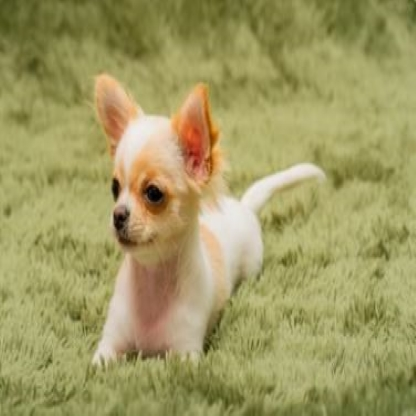chihuahua: (92, 69, 335, 368)
